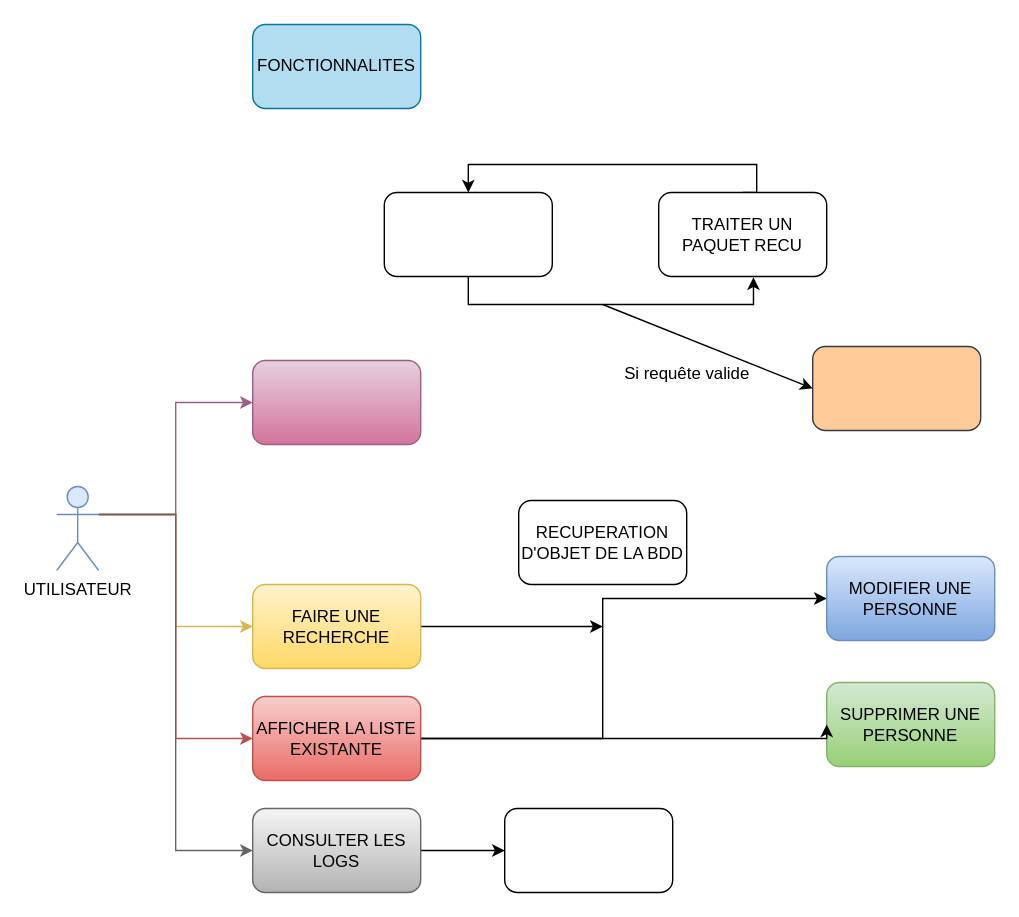
The diagram is 1019 pixels wide and 917 high, and some of its shapes have lost their labels. Each missing label, with the centre of its shape:
AFFICHAGE: (x=896, y=387)
CREER UNE PERSONNE: (x=336, y=401)
ENVOYER UNE REQUETE: (x=467, y=233)
RECUPERATION fichier log: (x=588, y=849)
